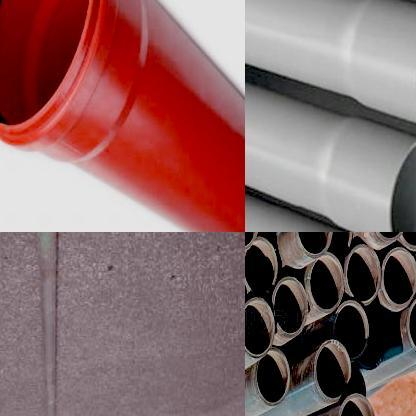pipe: (0, 0, 104, 145), (385, 134, 416, 232), (313, 339, 352, 402), (307, 251, 345, 313), (332, 300, 368, 362), (272, 276, 308, 338), (254, 347, 290, 407), (381, 247, 416, 307), (346, 243, 381, 303), (245, 237, 278, 296), (245, 297, 275, 359), (296, 232, 333, 258), (337, 394, 376, 416), (407, 293, 416, 357), (328, 232, 353, 255)
